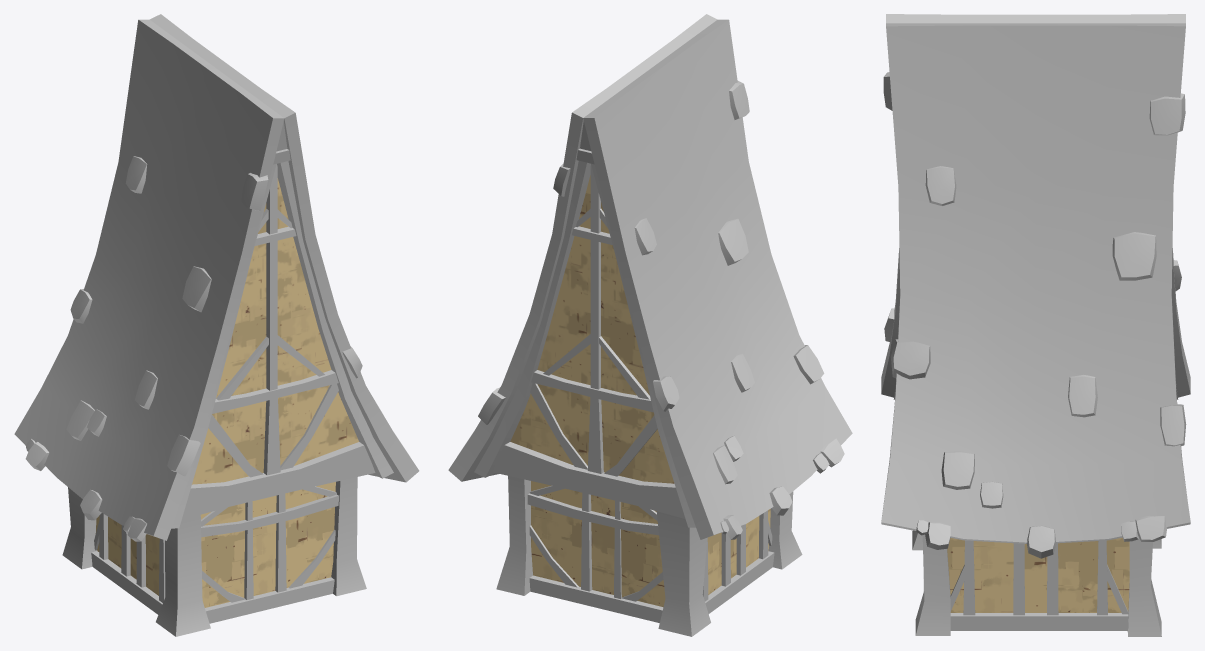
Rendered from SM_BLD_body_v01_02.fbx.
3 renders of one model, left to right at view 1: azimuth 30°, elevation 25°; view 2: azimuth 150°, elevation 25°; view 3: azimuth 270°, elevation 25°, orthographic. The views are drawn at different scales.
Parts seen in each view (by area): view 1: SM_BLD_body_v01_02; view 2: SM_BLD_body_v01_02; view 3: SM_BLD_body_v01_02.
Boxes of the visible parts, x1,y1,x2,y2 form: SM_BLD_body_v01_02: [14, 14, 419, 636]; SM_BLD_body_v01_02: [448, 14, 852, 636]; SM_BLD_body_v01_02: [881, 14, 1190, 636].
Bounding box in the file's own units: 821 × 1428 × 711.
